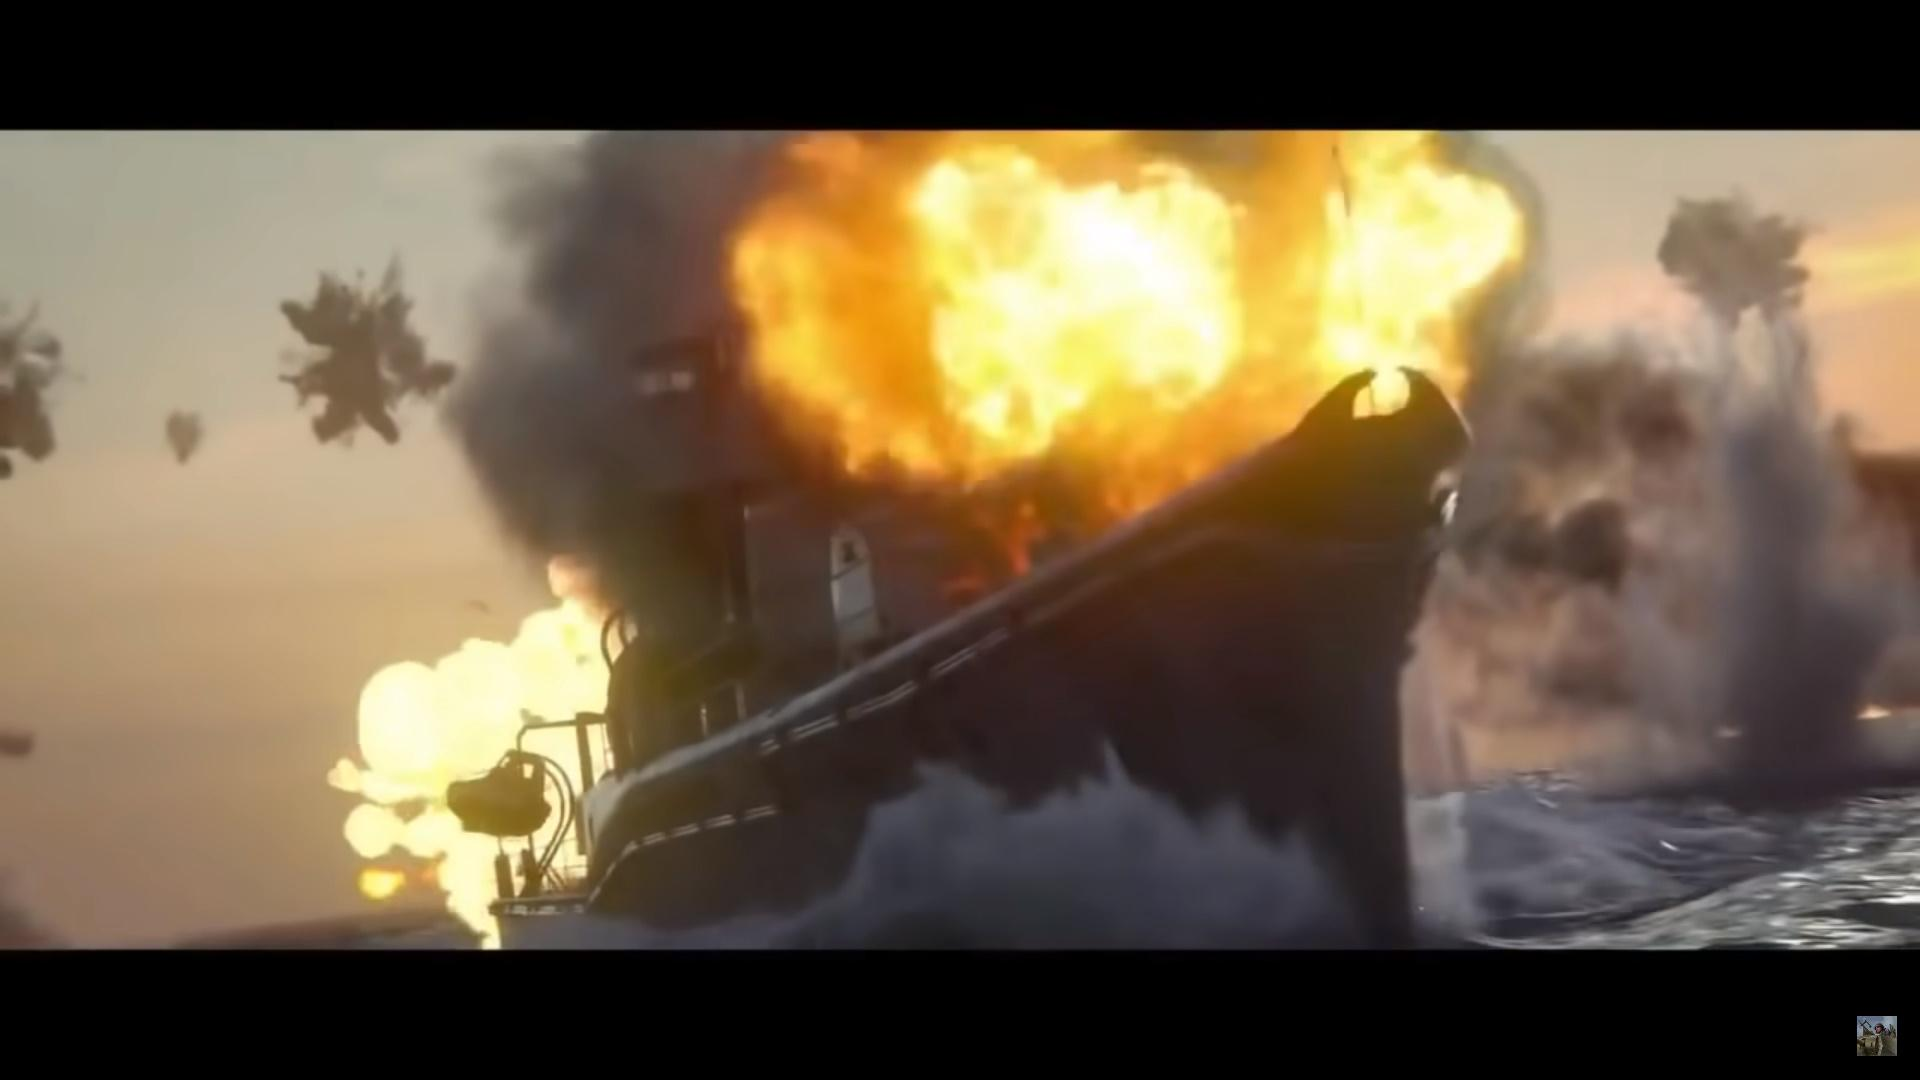fire: (683, 131, 1575, 554)
